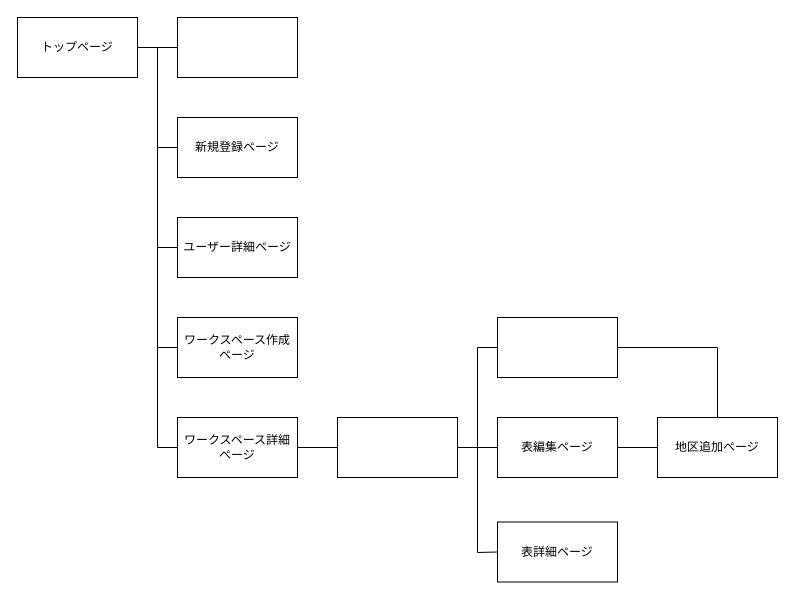
Image size: 795x600. Some labels were removed from this diagram. Here are the shapes that lost their labels. From the top down, the centre of each, then its label:
(237,47): ログインページ
(557,347): 表作成ページ
(397,447): ワークスペース編集ページ
